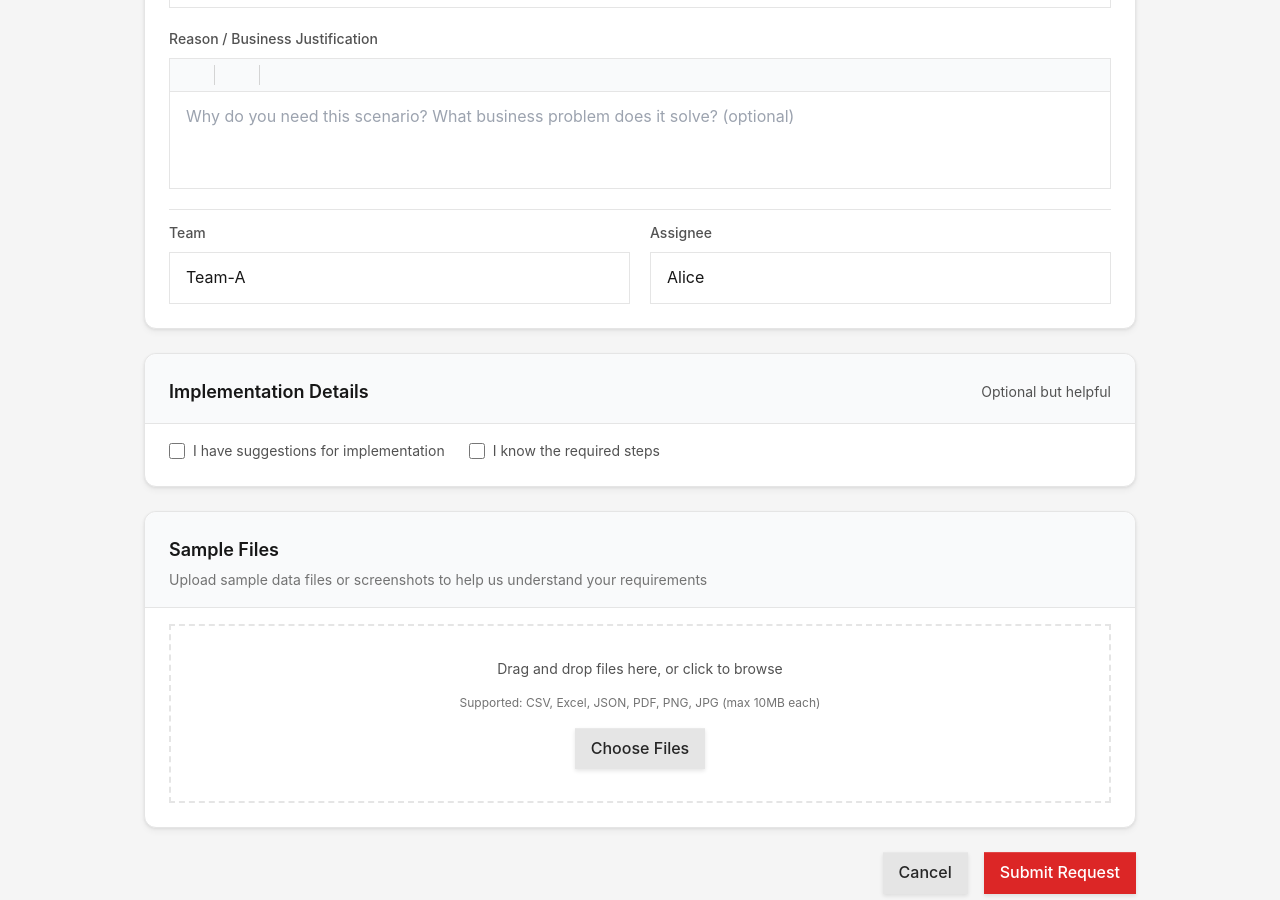
Test: AskScenarioPage › adds implementation steps
(page scrolled)
expect the heading "Implementation Details" is shown: met, box [169, 378, 369, 407]
Click the checkbox named "knows_steps". click: click(477, 451)
box: [469, 443, 485, 459]
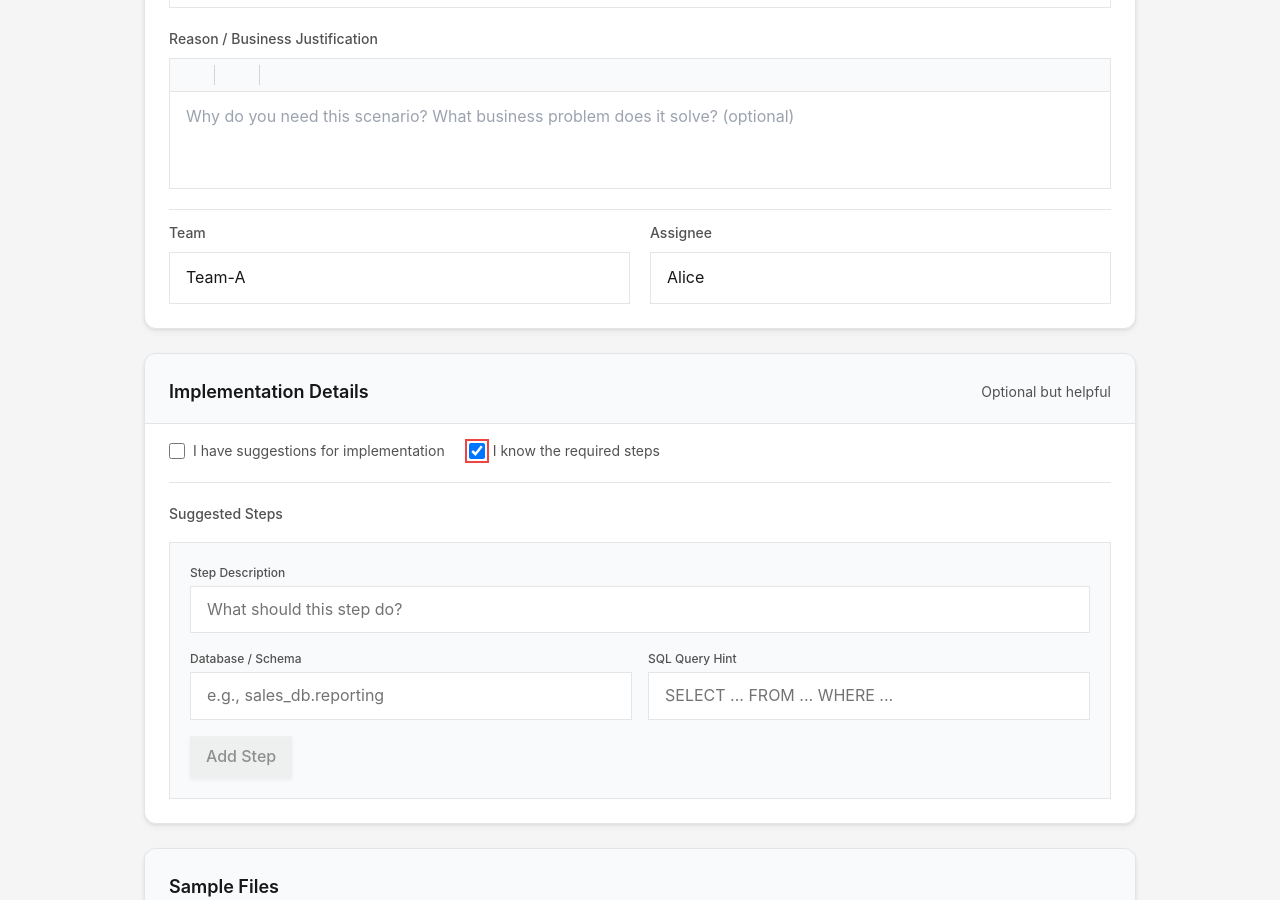
expect the field with placeholder "What should this step do?" is shown: met
# Type a step description
Type "First step" into the field with placeholder "What should this step do?". click: (640, 610)
box: [190, 586, 1090, 633]
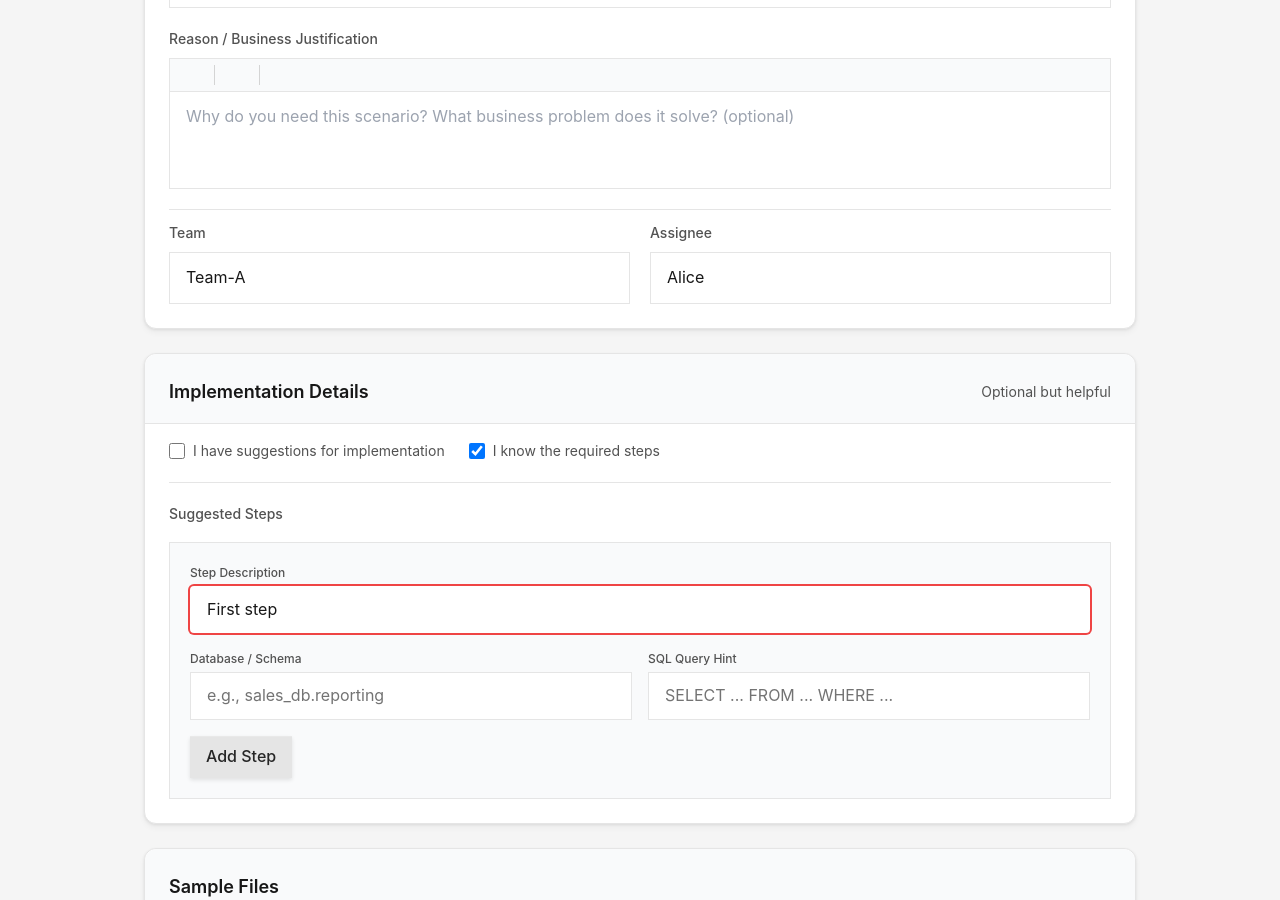
# Click add step button
Click the button "Add Step". click: click(241, 757)
box: [190, 736, 292, 778]
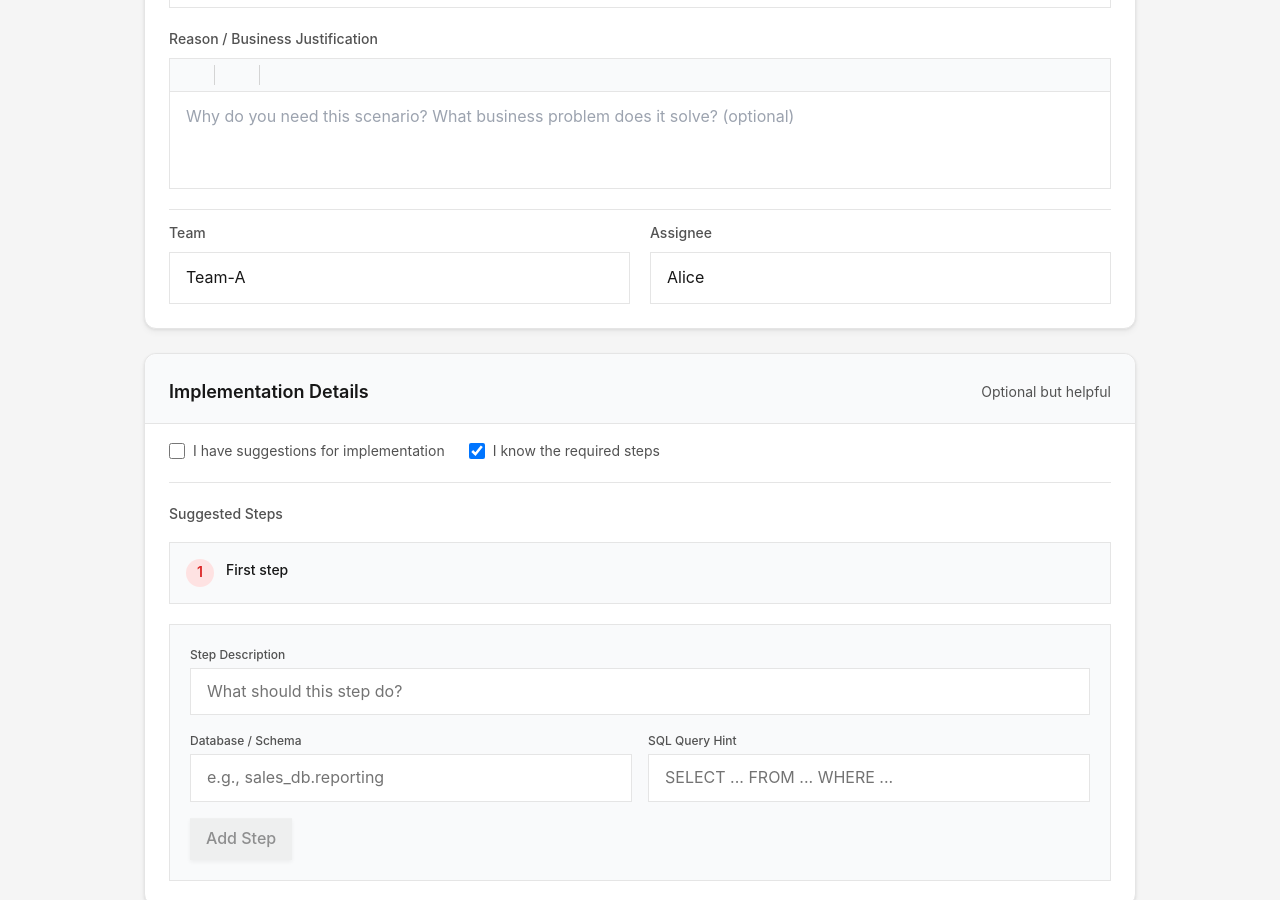
expect the text "First step" is shown: met, box [226, 560, 288, 578]
